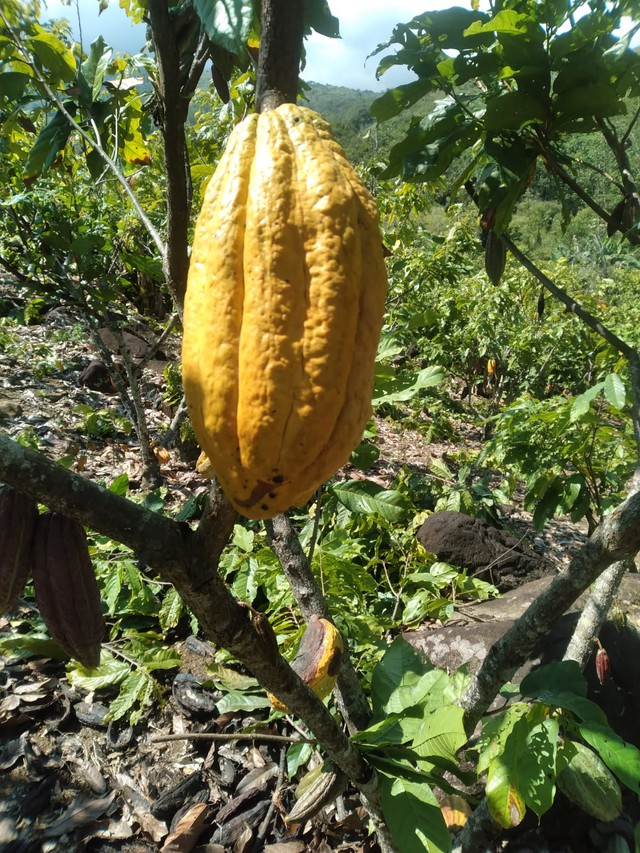Health: (171, 100, 400, 526)
